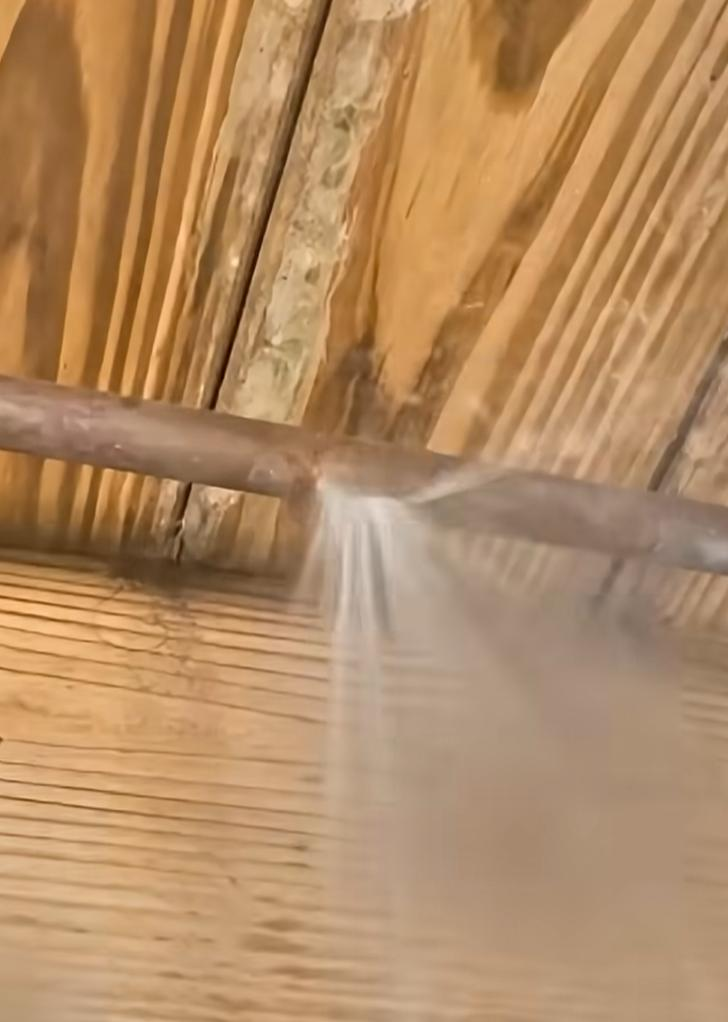pipe burst: (307, 472, 728, 1022)
